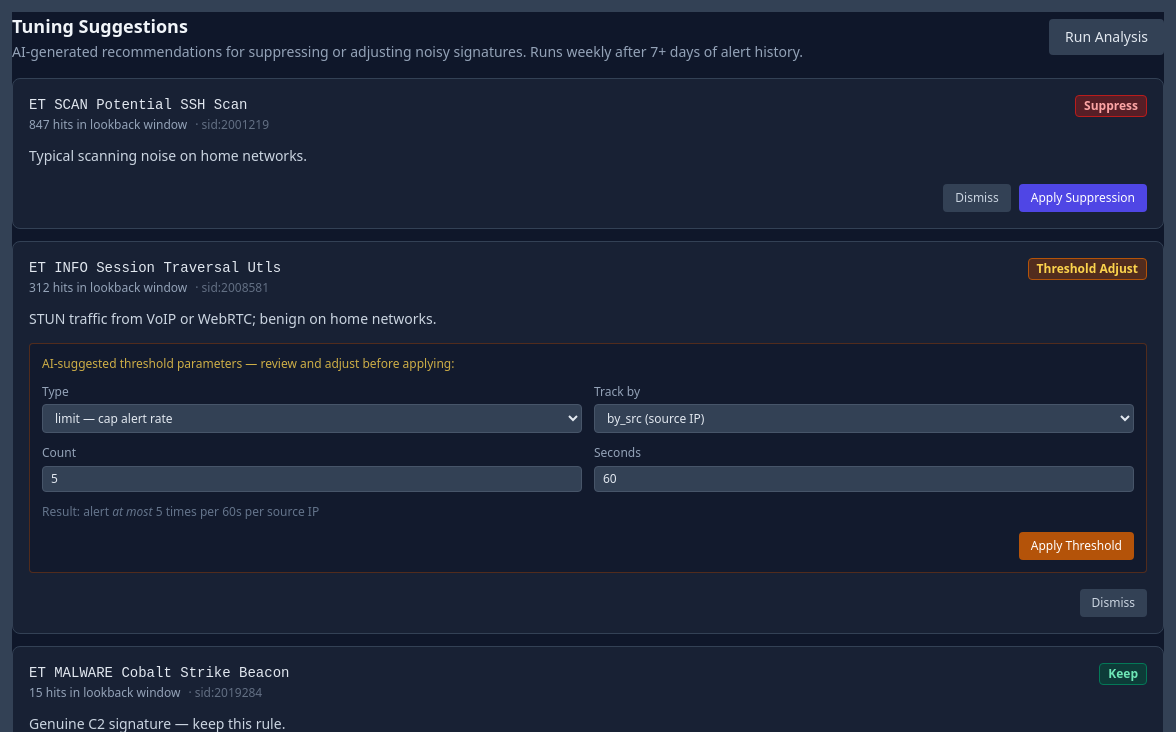
Test: TuningSuggestionsSection — Run Analysis › shows analysing spinner while running
The image size is (1176, 732).
What coordinates should you click on to do the following:
click the button "Run Analysis"
I would click on:
 (1107, 37)
Its box is [1049, 19, 1164, 55].
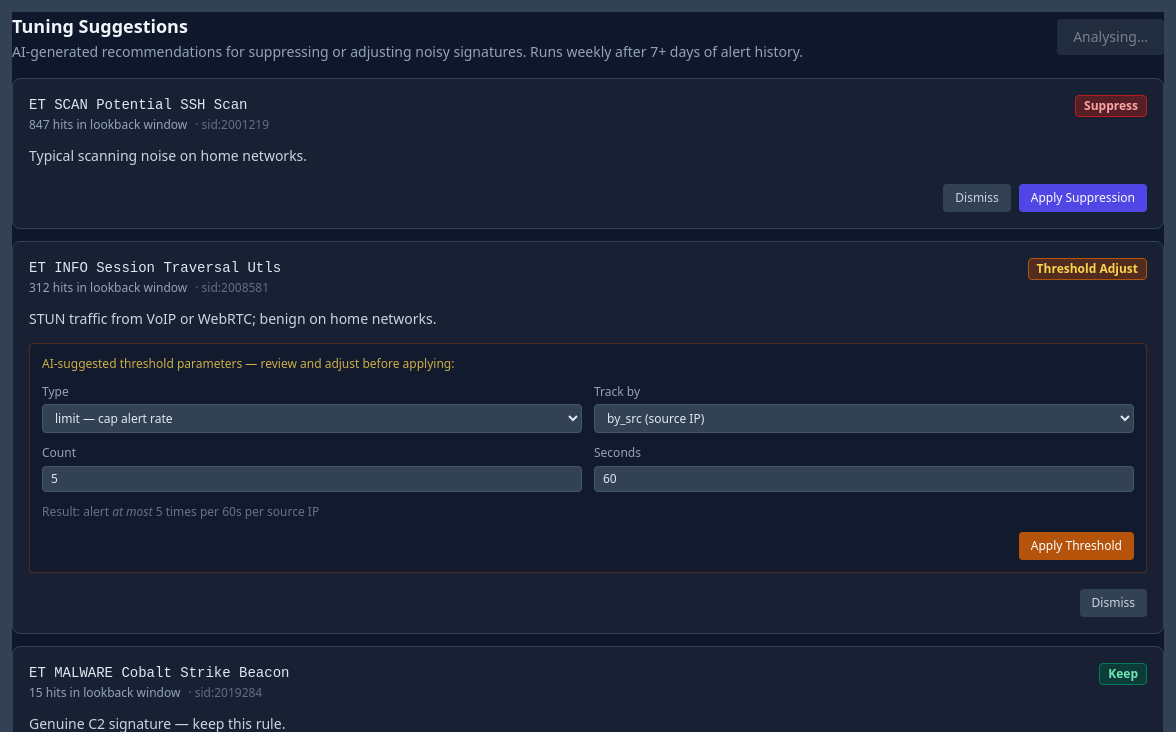
Result: the button "Analysing…" is shown at [1057, 19, 1164, 55]
